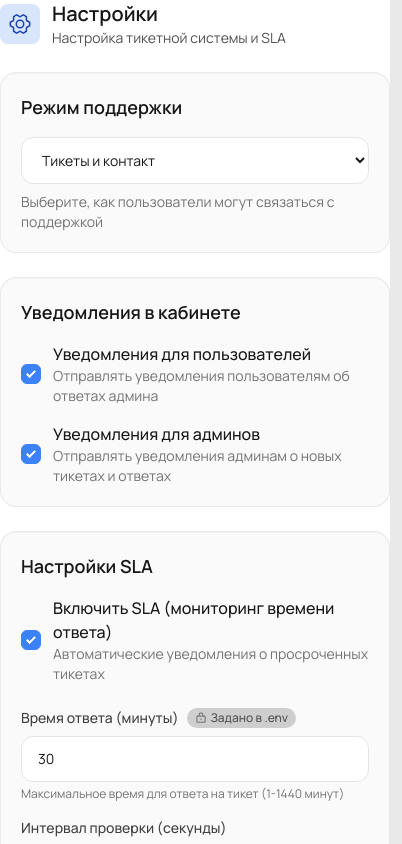
Test case: env-locked partner and ticket settings › keeps ticket cache server-confirmed and shows the PATCH error
Select "Только тикеты" in the dropdown: (195, 160) [21,137,369,184]
(page scrolled)
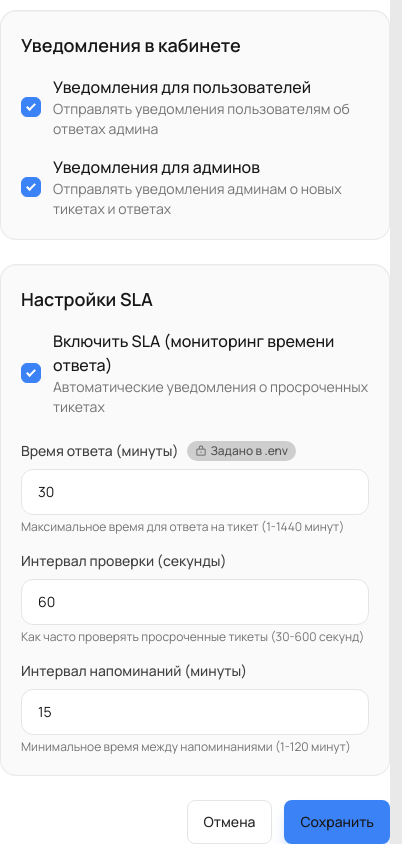
Click the button "Сохранить": (337, 822) [284,800,390,843]
(page scrolled)
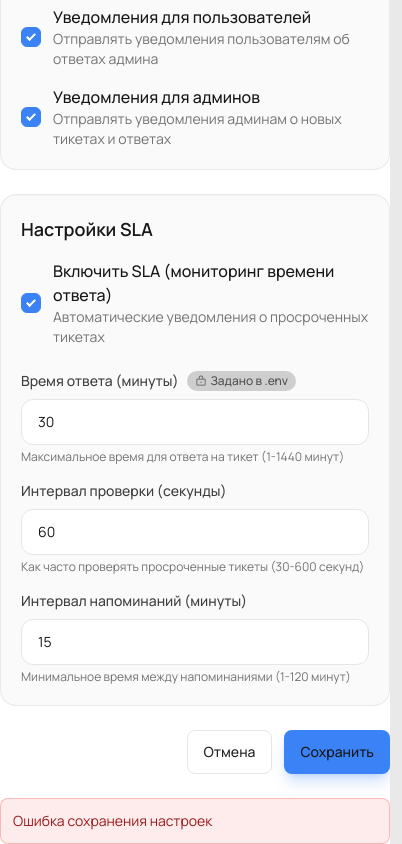
expect the text "Ошибка сохранения настроек" is shown: met, box [0,798,390,843]
